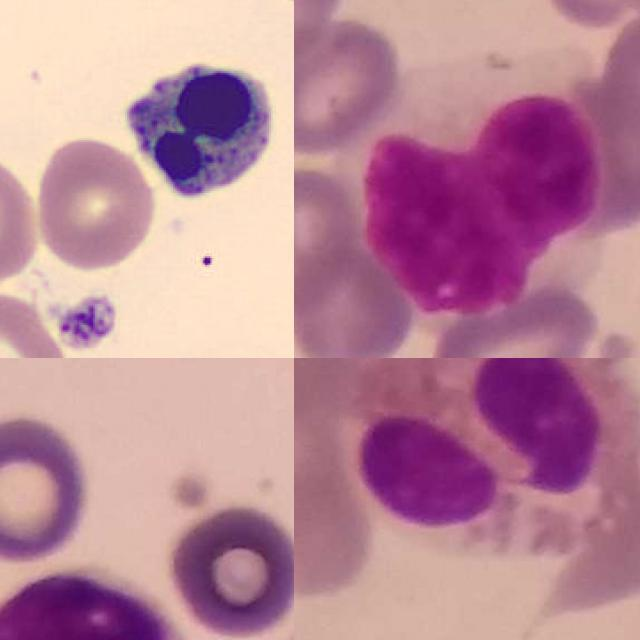Eosinophil: (345, 358, 640, 554)
Lymphocyte: (0, 565, 205, 640)
Monocyte: (345, 65, 619, 322)
Neutrophil: (113, 46, 283, 207)
Platelets: (56, 290, 118, 353)
RBC: (29, 131, 161, 274), (0, 138, 43, 286), (0, 286, 70, 358)
